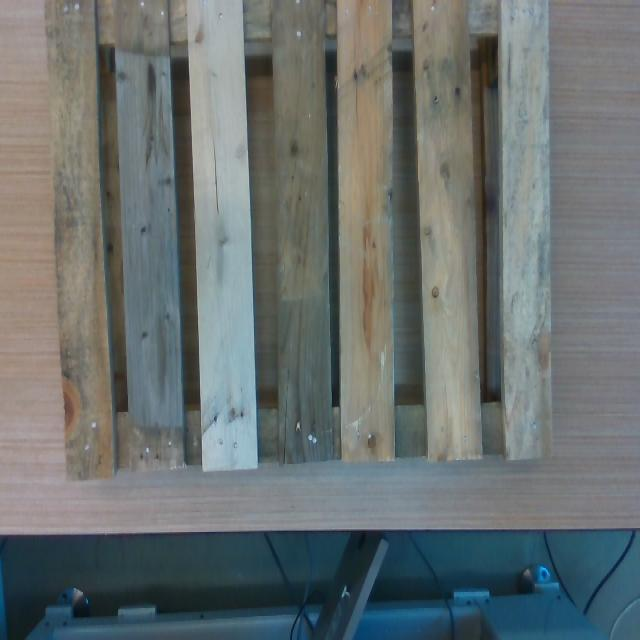pallet: (45, 0, 551, 479)
